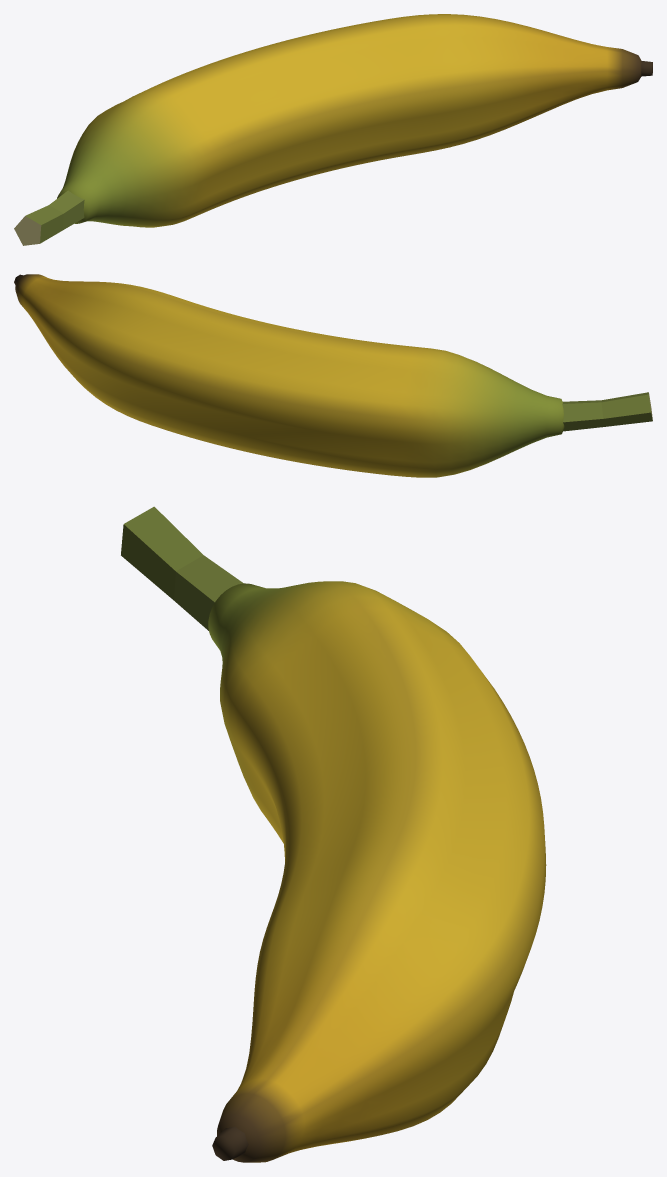
Rendered from banana.glb.
The picture shows the model from 3 angles, top to bottom: view 1: azimuth 30°, elevation 25°; view 2: azimuth 150°, elevation 25°; view 3: azimuth 270°, elevation 25°; orthographic projection. The views are drawn at different scales.
Visible parts, largest first — view 1: Banana_Body, Banana_Stalk; view 2: Banana_Body, Banana_Stalk; view 3: Banana_Body, Banana_Stalk.
Boxes of the visible parts, x1=… form: Banana_Body: x1=57, y1=14, x2=641, y2=227; Banana_Stalk: x1=14, y1=190, x2=84, y2=245; Banana_Body: x1=15, y1=274, x2=564, y2=477; Banana_Stalk: x1=562, y1=392, x2=652, y2=431; Banana_Body: x1=208, y1=581, x2=546, y2=1162; Banana_Stalk: x1=121, y1=506, x2=243, y2=630.
Size of the model in its own units: 0.2092 by 0.0373 by 0.062.
